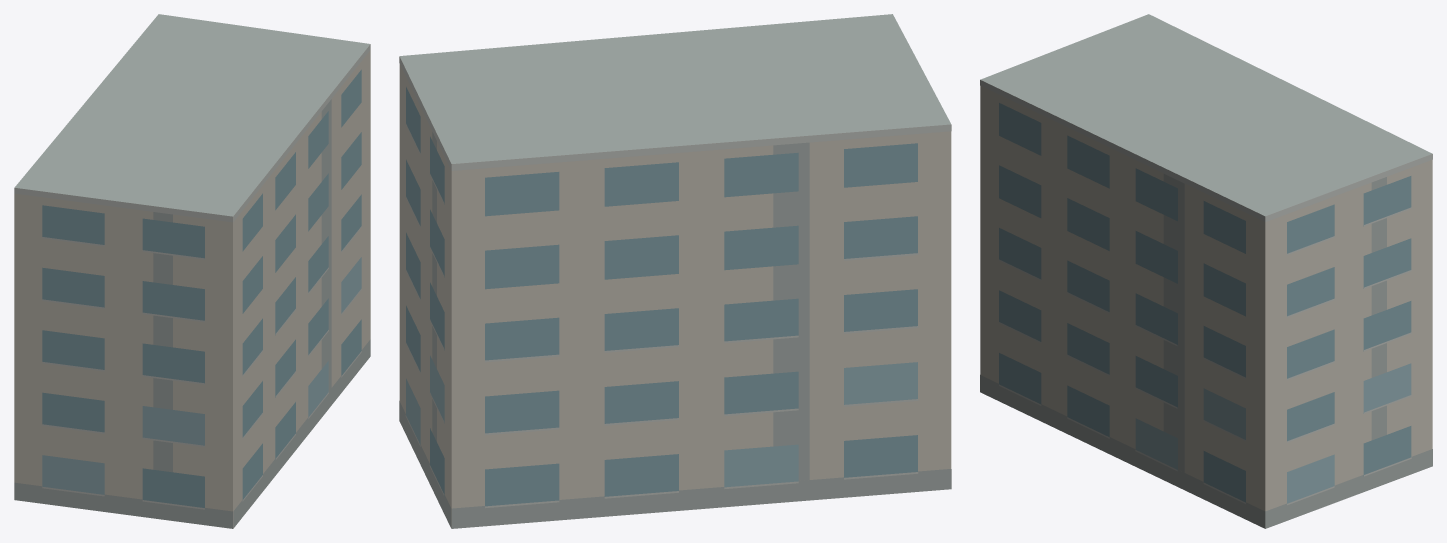
Rendered from survey-upis-32843748.glb.
The picture shows the model from 3 angles, left to right: view 1: azimuth 30°, elevation 25°; view 2: azimuth 150°, elevation 25°; view 3: azimuth 270°, elevation 25°; orthographic projection. The views are drawn at different scales.
Parts seen in each view (by area): view 1: survey-upis-32843748.tmp; view 2: survey-upis-32843748.tmp; view 3: survey-upis-32843748.tmp.
Boxes of the visible parts, <box> form: survey-upis-32843748.tmp: <box>14,14,370,528</box>; survey-upis-32843748.tmp: <box>399,14,951,528</box>; survey-upis-32843748.tmp: <box>980,14,1432,528</box>.
Size of the model in its own units: 18.06 by 13 by 17.07.
